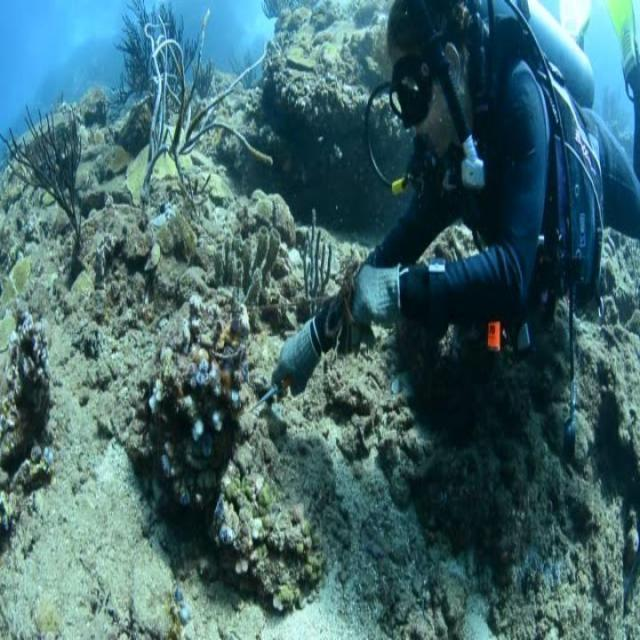Dead Coral: (17, 10, 299, 324)
